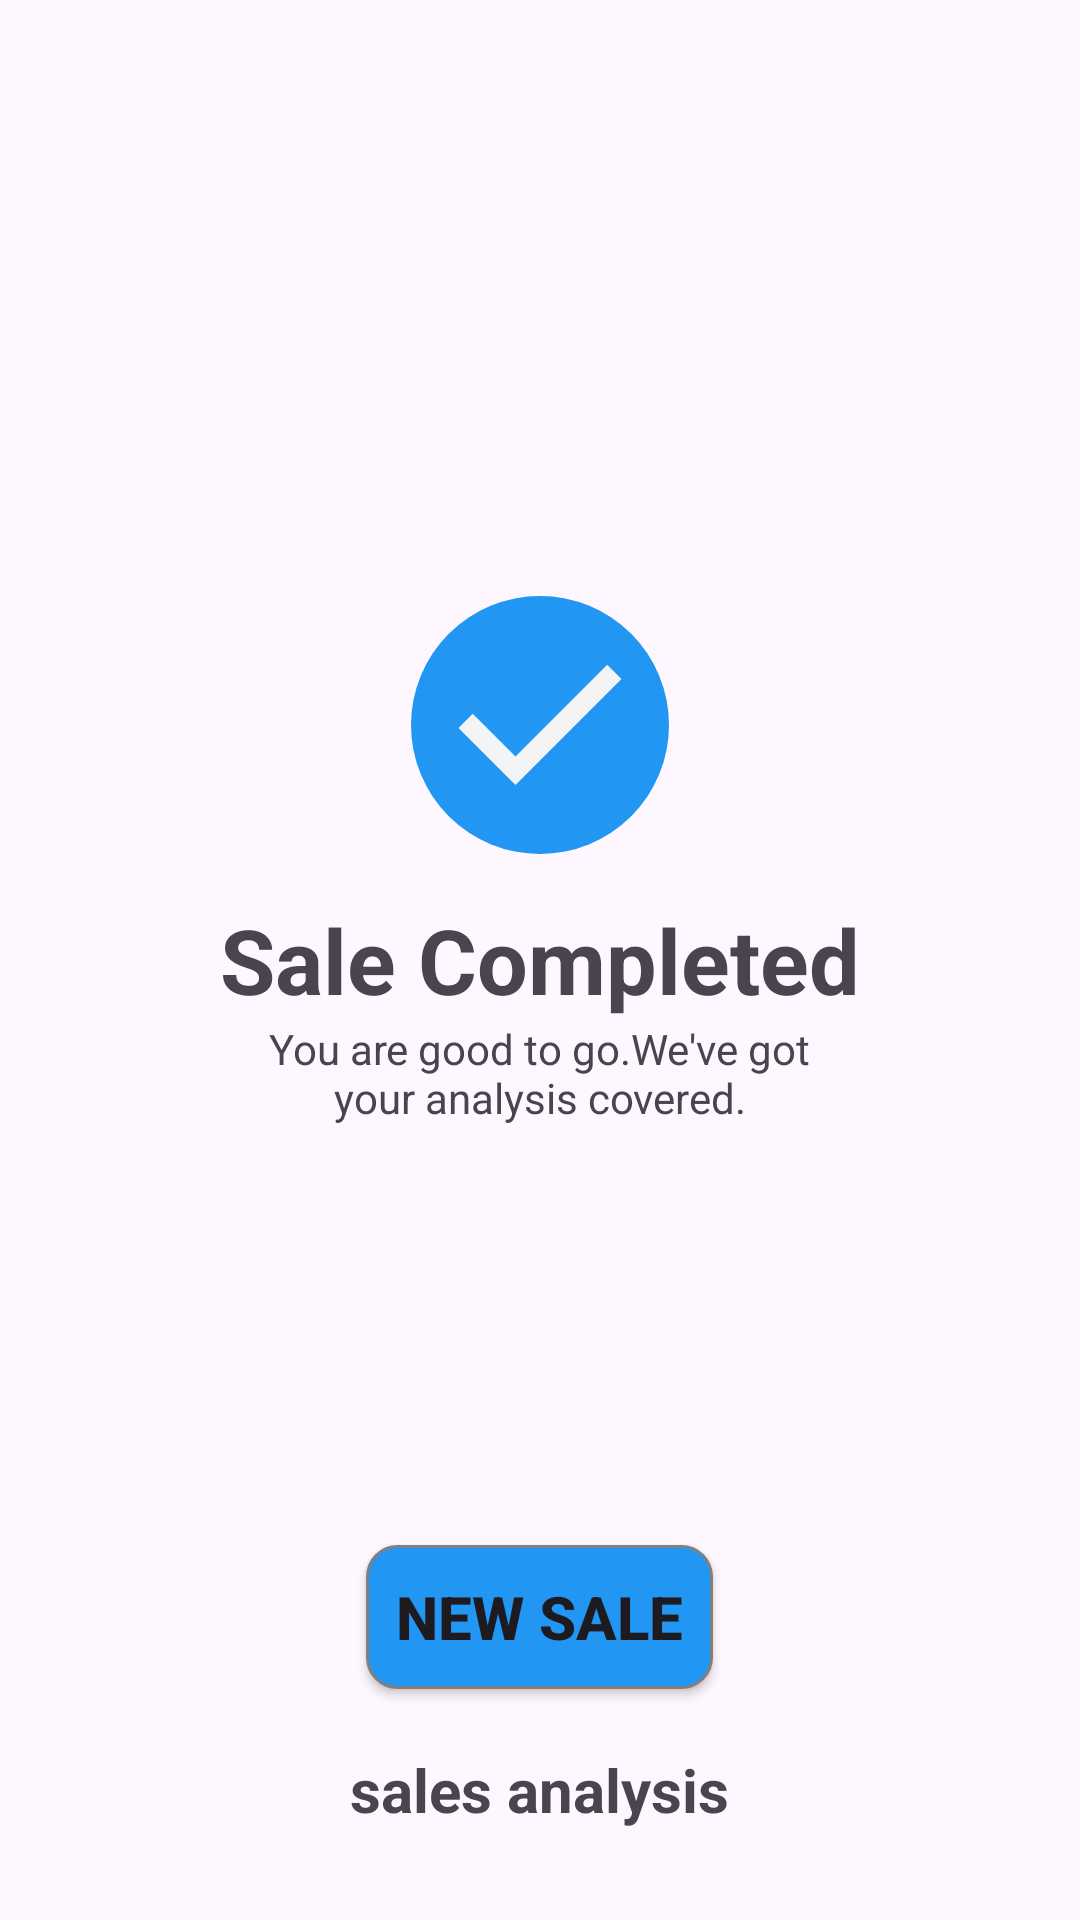

Icon bounding boxes for this 1080px x 1920px phone screenshot, format (x1, y1, x2, y2):
Done icon: (411, 596, 669, 854)
